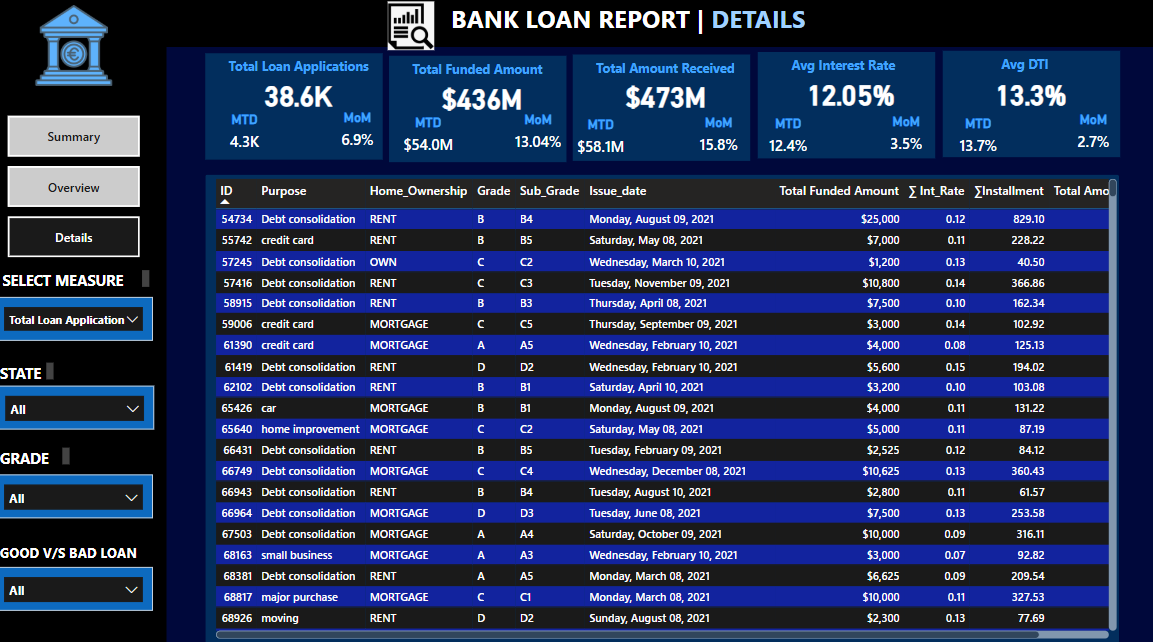

This screenshot's page, from the dashboard's own definition file:
{"tool":"powerbi","page":{"name":" Details","canvas":[1280,720],"ordinal":2},"visuals":[{"type":"shape","box":[0,0,1280.3,54.9],"z":0},{"type":"shape","box":[1042,59.5,194.8,116.9],"z":0,"group":"g4"},{"type":"shape","box":[839,59.8,194.8,116.9],"z":0,"group":"g3"},{"type":"shape","box":[232.1,61.7,194.8,116.9],"z":0,"group":"g5"},{"type":"shape","box":[635.2,63.5,194.8,116.9],"z":0,"group":"g2"},{"type":"shape","box":[434.2,64.5,194.8,116.9],"z":0,"group":"g1"},{"type":"shape","box":[0,45.3,189.4,664.2],"z":1000},{"type":"card","fields":{"Values":["Bank_Loan_Data.Average Intrest Rate"]},"box":[880,78.8,122,53],"z":1000,"group":"g3"},{"type":"card","fields":{"Values":["Bank_Loan_Data.Avg DTI"]},"box":[1077.3,80.5,122.1,52.1],"z":1000,"group":"g4"},{"type":"card","fields":{"Values":["Bank_Loan_Data.Total Loan Application"]},"box":[273.1,80.7,122,53],"z":1000,"group":"g5"},{"type":"card","fields":{"Values":["Bank_Loan_Data.Total Amount received"]},"box":[676.2,82.5,122,53],"z":1000,"group":"g2"},{"type":"card","fields":{"Values":["Bank_Loan_Data.Total Funded Amount"]},"box":[475.2,83.5,122,53],"z":1000,"group":"g1"},{"type":"textbox","box":[1062,59.6,175,30],"z":2000,"group":"g4"},{"type":"textbox","box":[859,59.9,175,30],"z":2000,"group":"g3"},{"type":"textbox","box":[252.1,61.8,175,30],"z":2000,"group":"g5"},{"type":"textbox","box":[655.2,63.6,175,30],"z":2000,"group":"g2"},{"type":"textbox","box":[454.2,64.6,175,30],"z":2000,"group":"g1"},{"type":"textbox","box":[1.4,396.6,68.6,30.2],"z":2000},{"type":"textbox","box":[496.3,0,537,45.7],"z":3000},{"type":"group","id":"g1","title":"Group 1","box":[434.2,64.5,195.1,117.3],"z":4000},{"type":"card","title":"MTD","fields":{"Values":["Bank_Loan_Data.MTD Funded Amount"]},"box":[439,128.9,75,53],"z":5000},{"type":"card","title":"MoM","fields":{"Values":["Bank_Loan_Data.MoM Total Funded Amount"]},"box":[563.8,126.2,66.7,53.1],"z":6000},{"type":"group","id":"g2","title":"Group 1","box":[635.2,63.5,195,116.9],"z":7000},{"type":"card","title":"MTD","fields":{"Values":["Bank_Loan_Data.MTD Amount Received"]},"box":[633.8,131.1,64,53],"z":8000},{"type":"card","title":"MoM","fields":{"Values":["Bank_Loan_Data.MoM Total Funded Amount  Received"]},"box":[767.4,128.5,57,53],"z":9000},{"type":"group","id":"g3","title":"Group 1","box":[839,59.8,194.9,116.6],"z":10000},{"type":"card","title":"MTD","fields":{"Values":["Bank_Loan_Data.MTD Avg Interest Rate"]},"box":[839.2,130.1,64,53],"z":11000},{"type":"card","title":"MoM","fields":{"Values":["Bank_Loan_Data.MoM Avg Interest Day"]},"box":[972.8,127.5,57,53],"z":12000},{"type":"group","id":"g4","title":"Group 1","box":[1042,59.5,195,116.9],"z":13000},{"type":"card","title":"MTD","fields":{"Values":["Bank_Loan_Data.MTD Avg DTI"]},"box":[1048.3,130.3,64,53],"z":14000},{"type":"card","title":"MoM","fields":{"Values":["Bank_Loan_Data.MoM Avg DTI"]},"box":[1178.2,126.8,56.3,52.1],"z":15000},{"type":"group","id":"g5","title":"Group 1","box":[232.1,61.7,195.1,117.3],"z":16000},{"type":"card","title":"MTD","fields":{"Values":["Bank_Loan_Data.MTD Loan Applications"]},"box":[237,126.2,75,53],"z":17000},{"type":"card","title":"MoM","fields":{"Values":["Bank_Loan_Data.MoM Loan Application"]},"box":[371,123.2,57,53],"z":18000},{"type":"slicer","fields":{"Values":["Bank_Loan_Data.address_state"]},"box":[1.4,426.8,174.3,48],"z":19000},{"type":"slicer","fields":{"Values":["Bank_Loan_Data.grade"]},"box":[0,524.2,174.3,48],"z":20000},{"type":"textbox","box":[1.4,489.9,86.4,30.2],"z":21000},{"type":"slicer","fields":{"Values":["Bank_Loan_Data.Good vs Bad Loan"]},"box":[0,625.7,174.3,48],"z":22000},{"type":"textbox","box":[1.4,595.5,174.3,30.2],"z":23000},{"type":"slicer","fields":{"Values":["Select Measures.Select Measures"]},"box":[0,329.3,174.3,48],"z":24000},{"type":"textbox","box":[4.1,295,171.5,30.2],"z":25000},{"type":"shape","box":[231.9,194.9,1003.1,514.6],"z":26000},{"type":"tableEx","fields":{"Values":["Bank_Loan_Data.id","Bank_Loan_Data.purpose","Bank_Loan_Data.home_ownership","Bank_Loan_Data.grade","Bank_Loan_Data.sub_grade","Bank_Loan_Data.issue_date","Bank_Loan_Data.Total Funded Amount","Sum(Bank_Loan_Data.int_rate)","Sum(Bank_Loan_Data.installment)","Bank_Loan_Data.Total Amount received"]},"box":[237.4,194.9,1000.3,514.6],"z":27000},{"type":"image","box":[418.5,0,78.2,63.1],"z":27001},{"type":"pageNavigator","box":[15.1,130.4,145.5,155.1],"z":27002},{"type":"image","box":[38.4,0,98.8,105.7],"z":27003}]}

Visuals, with their boxes in screenshot pixels (x1, y1, x2, y2), scaled from the page's 1280x720 canvas onto the 1153x642 screenshot:
shape: x1=0, y1=0, x2=1152, y2=49
shape: x1=939, y1=53, x2=1114, y2=157
shape: x1=756, y1=53, x2=931, y2=158
shape: x1=209, y1=55, x2=385, y2=159
shape: x1=572, y1=57, x2=748, y2=161
shape: x1=391, y1=58, x2=567, y2=162
shape: x1=0, y1=40, x2=171, y2=633
card - Bank_Loan_Data.Average Intrest Rate: x1=793, y1=70, x2=903, y2=118
card - Bank_Loan_Data.Avg DTI: x1=970, y1=72, x2=1080, y2=118
card - Bank_Loan_Data.Total Loan Application: x1=246, y1=72, x2=356, y2=119
card - Bank_Loan_Data.Total Amount received: x1=609, y1=74, x2=719, y2=121
card - Bank_Loan_Data.Total Funded Amount: x1=428, y1=74, x2=538, y2=122
textbox: x1=957, y1=53, x2=1114, y2=80
textbox: x1=774, y1=53, x2=931, y2=80
textbox: x1=227, y1=55, x2=385, y2=82
textbox: x1=590, y1=57, x2=748, y2=83
textbox: x1=409, y1=58, x2=567, y2=84
textbox: x1=1, y1=354, x2=63, y2=381
textbox: x1=447, y1=0, x2=931, y2=41
"Group 1" group: x1=391, y1=58, x2=567, y2=162
"MTD" card: x1=395, y1=115, x2=463, y2=162
"MoM" card: x1=508, y1=113, x2=568, y2=160
"Group 1" group: x1=572, y1=57, x2=748, y2=161
"MTD" card: x1=571, y1=117, x2=629, y2=164
"MoM" card: x1=691, y1=115, x2=743, y2=162
"Group 1" group: x1=756, y1=53, x2=931, y2=157
"MTD" card: x1=756, y1=116, x2=814, y2=163
"MoM" card: x1=876, y1=114, x2=928, y2=161
"Group 1" group: x1=939, y1=53, x2=1114, y2=157
"MTD" card: x1=944, y1=116, x2=1002, y2=163
"MoM" card: x1=1061, y1=113, x2=1112, y2=160
"Group 1" group: x1=209, y1=55, x2=385, y2=160
"MTD" card: x1=213, y1=113, x2=281, y2=160
"MoM" card: x1=334, y1=110, x2=386, y2=157
slicer - Bank_Loan_Data.address_state: x1=1, y1=381, x2=158, y2=423
slicer - Bank_Loan_Data.grade: x1=0, y1=467, x2=157, y2=510
textbox: x1=1, y1=437, x2=79, y2=464
slicer - Bank_Loan_Data.Good vs Bad Loan: x1=0, y1=558, x2=157, y2=601
textbox: x1=1, y1=531, x2=158, y2=558
slicer - Select Measures.Select Measures: x1=0, y1=294, x2=157, y2=336
textbox: x1=4, y1=263, x2=158, y2=290
shape: x1=209, y1=174, x2=1112, y2=633
tableEx - Bank_Loan_Data.id x Bank_Loan_Data.purpose: x1=214, y1=174, x2=1115, y2=633
image: x1=377, y1=0, x2=447, y2=56
pageNavigator: x1=14, y1=116, x2=145, y2=255
image: x1=35, y1=0, x2=124, y2=94
